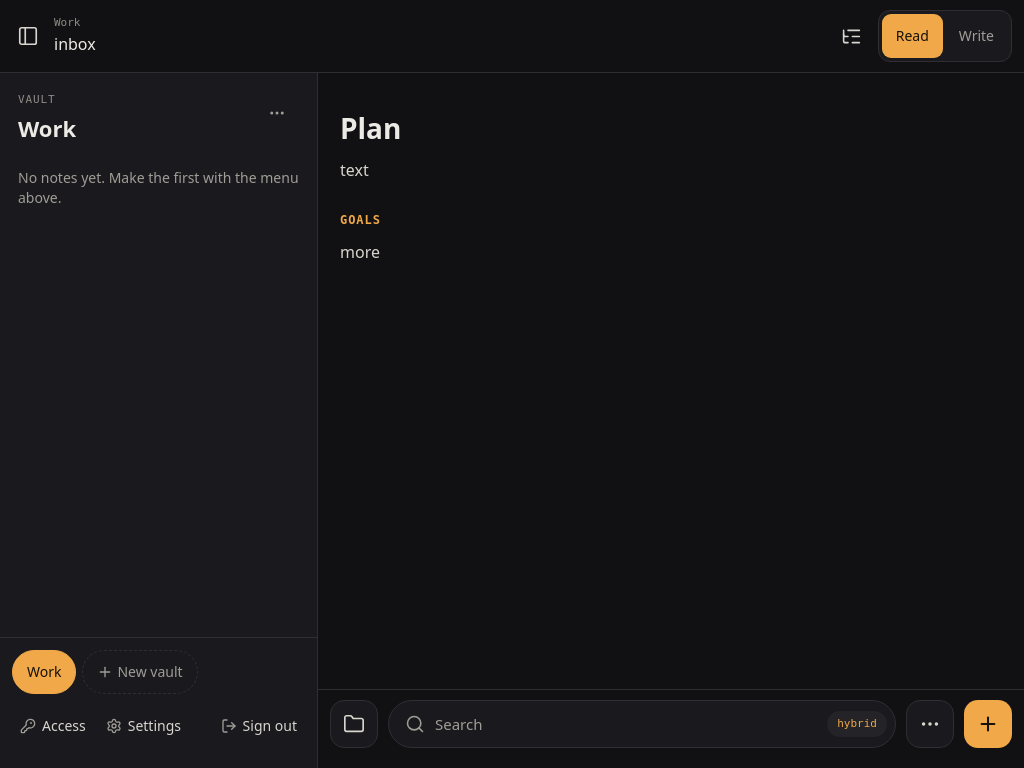
Test: the search sheet › debounces by 200 ms and cancels the request of an older query
Click the button "Search hybrid": click(459, 724) x1=388 y1=700 x2=896 y2=748
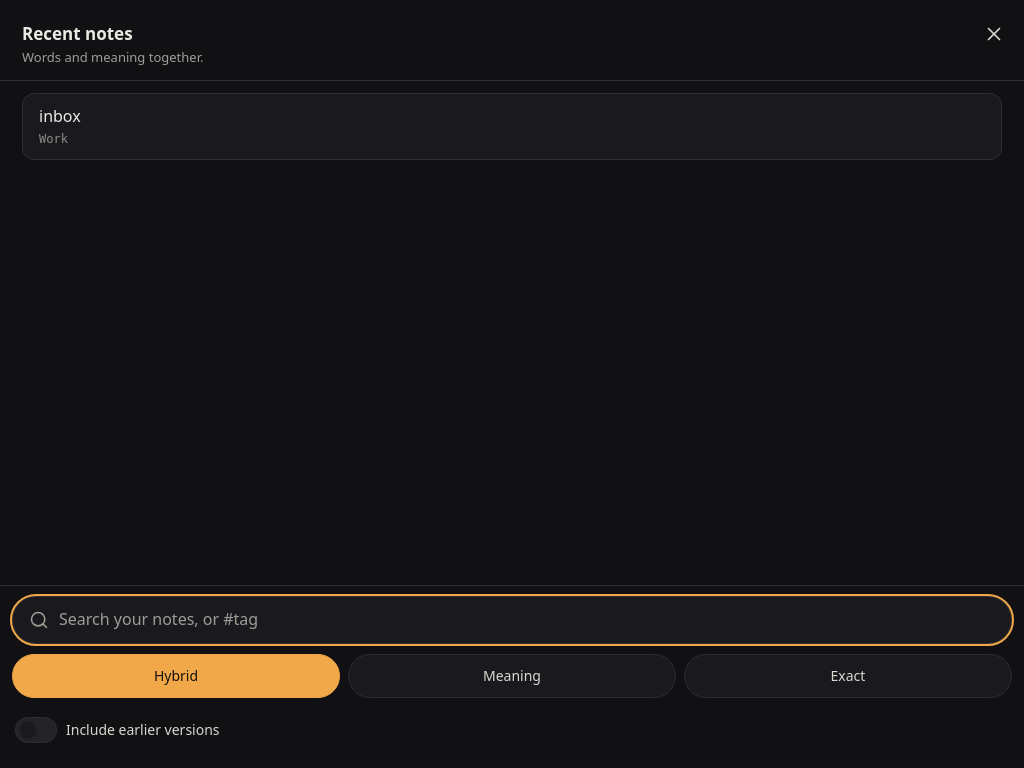
In the search field labelled "Search": (527, 620) x1=59 y1=607 x2=995 y2=633, type "pl"
Wait 199 ms
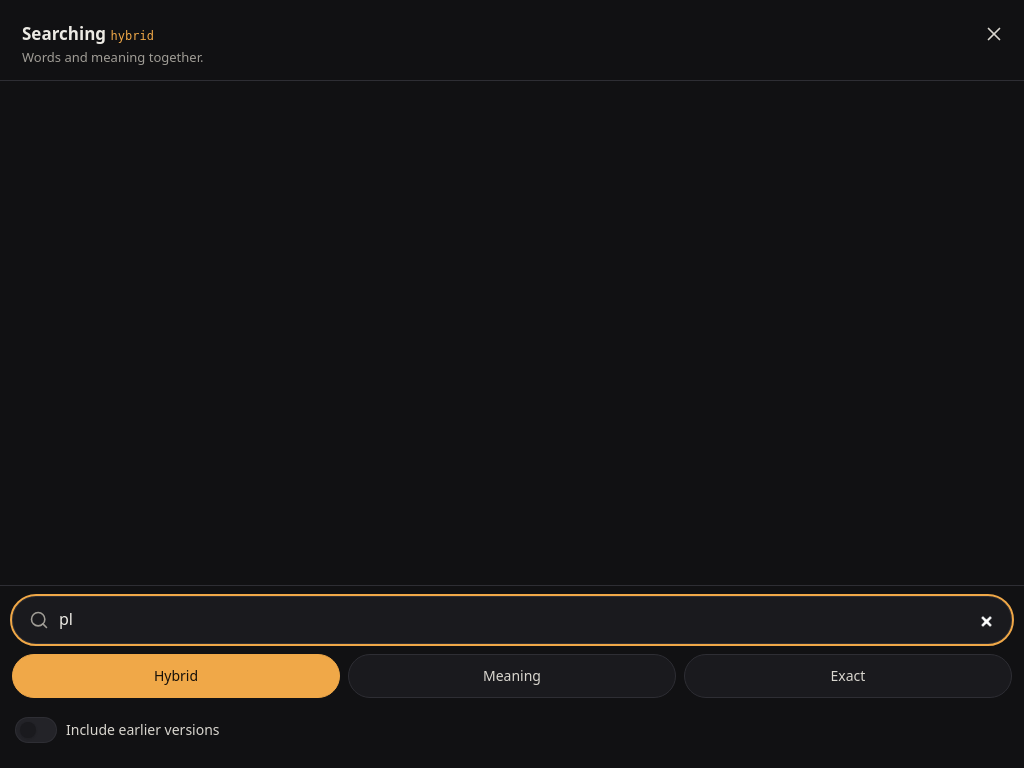
Replace the text in the search field named "Search" with "plan": (527, 620) x1=59 y1=607 x2=995 y2=633
Wait 250 ms
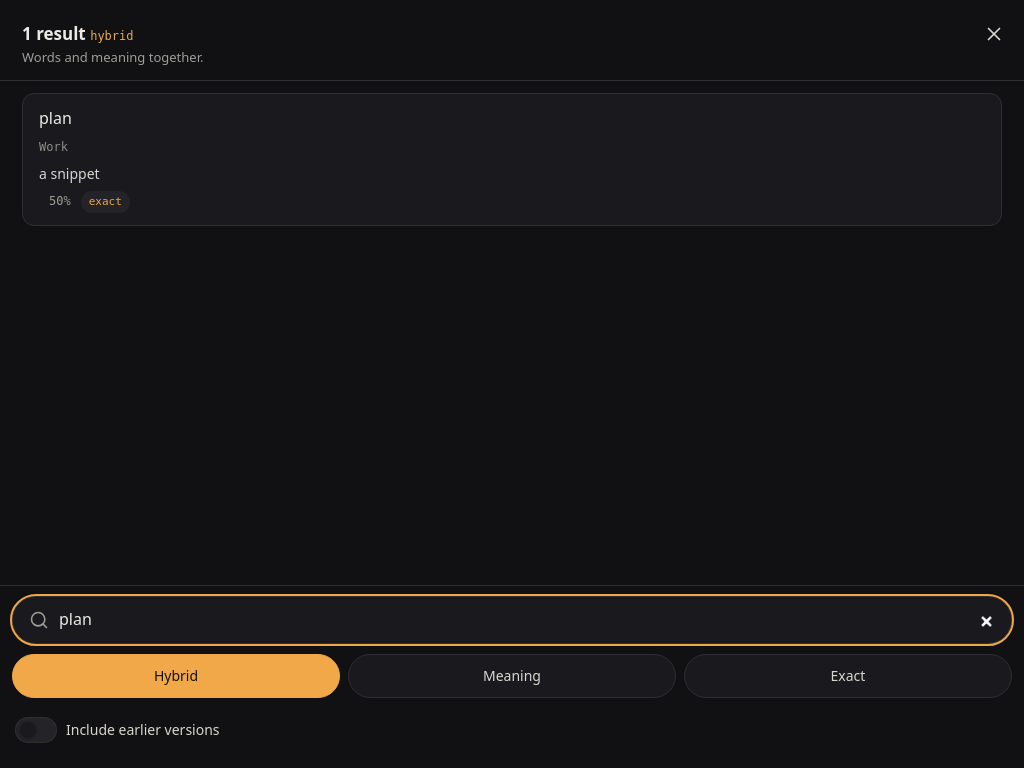
Check: the text "plan" is shown, box x1=39 y1=106 x2=72 y2=132
